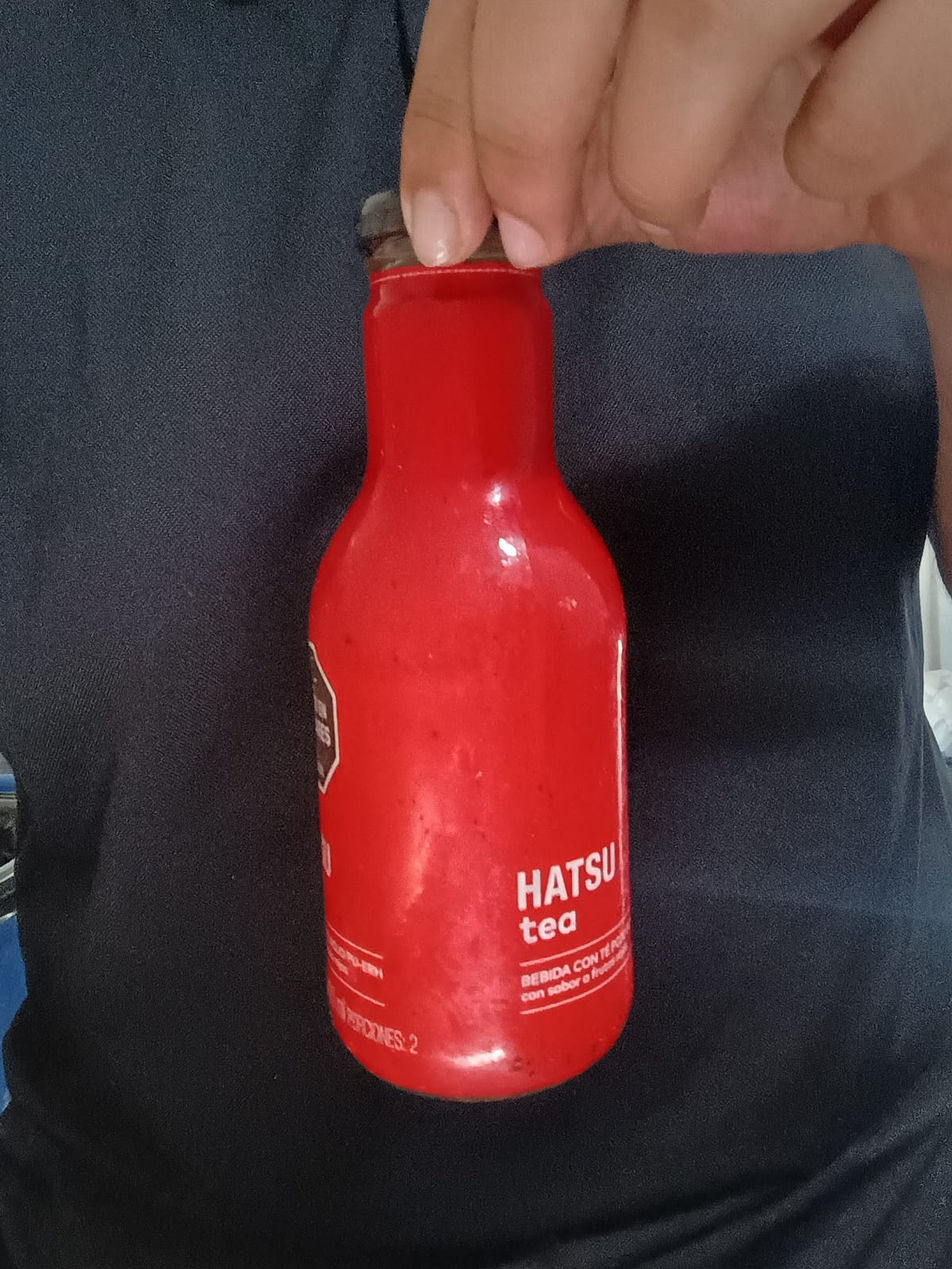Vidrio: (310, 193, 637, 1101)
